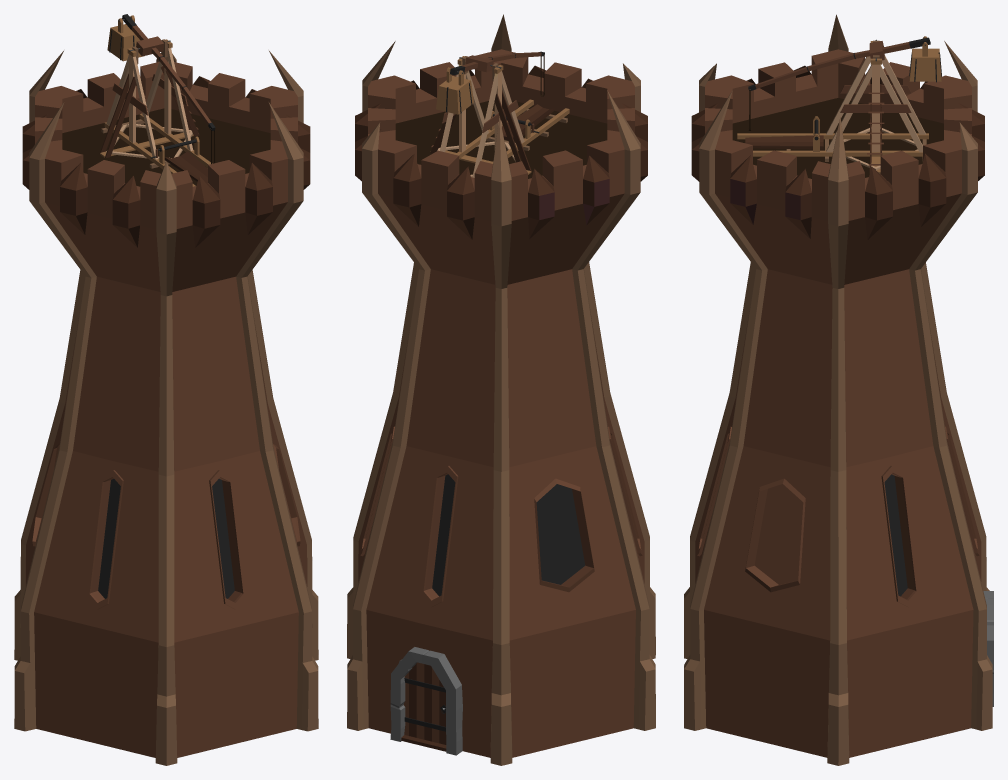
Rendered from Trebuchet.fbx.fbx.
3 views of the same model, side by side, from view 1: azimuth 30°, elevation 25°; view 2: azimuth 150°, elevation 25°; view 3: azimuth 270°, elevation 25° (orthographic).
Visible parts, largest first — view 1: podstawa, machina, wyrzutnia, ciężar; view 2: podstawa, machina, ciężar, wyrzutnia; view 3: podstawa, machina, wyrzutnia, ciężar.
Part boxes in pixels (x1=…): podstawa: x1=14, y1=51, x2=318, y2=765; machina: x1=99, y1=39, x2=212, y2=186; wyrzutnia: x1=122, y1=14, x2=215, y2=130; ciężar: x1=107, y1=15, x2=144, y2=61; podstawa: x1=347, y1=14, x2=655, y2=765; machina: x1=430, y1=56, x2=569, y2=177; ciężar: x1=436, y1=67, x2=473, y2=114; wyrzutnia: x1=450, y1=51, x2=544, y2=75; podstawa: x1=684, y1=14, x2=993, y2=765; machina: x1=737, y1=39, x2=928, y2=173; wyrzutnia: x1=748, y1=37, x2=930, y2=90; ciężar: x1=909, y1=36, x2=941, y2=82.
Size of the model in its own units: 543 by 1099 by 472.
